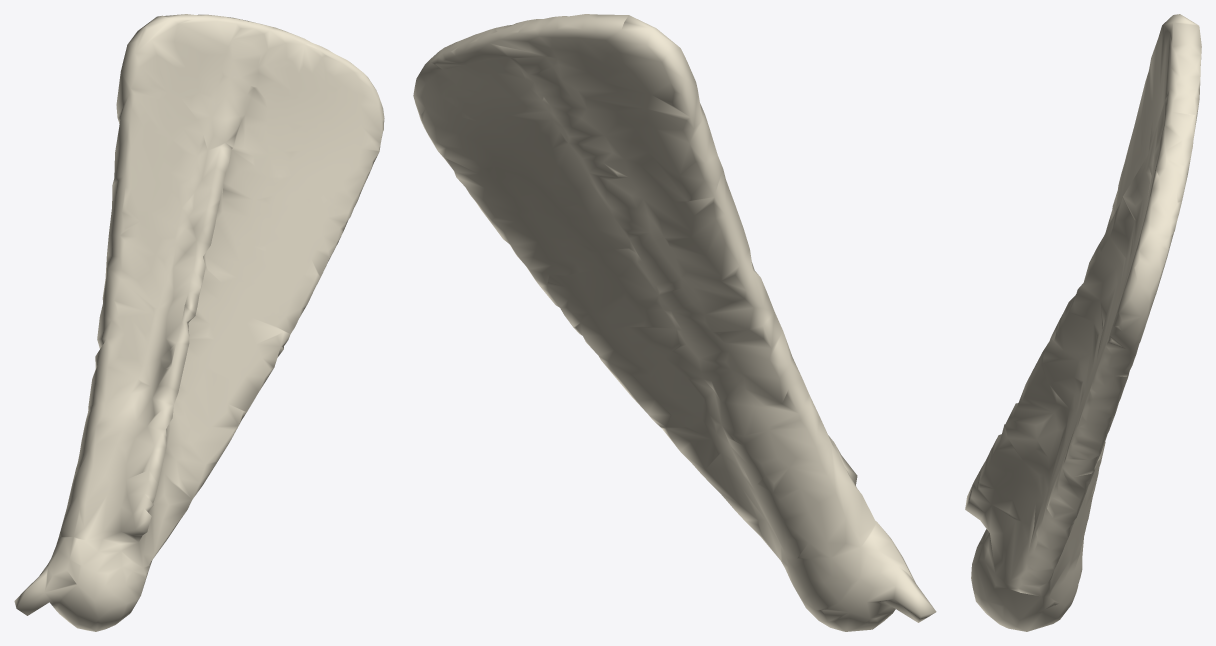
File: scapula_l.glb
The picture shows the model from 3 angles, left to right: view 1: azimuth 30°, elevation 25°; view 2: azimuth 150°, elevation 25°; view 3: azimuth 270°, elevation 25°; orthographic projection. The views are drawn at different scales.
Parts seen in each view (by area): view 1: geometry_0; view 2: geometry_0; view 3: geometry_0.
Part boxes in pixels (x1,y1,x2,y2): geometry_0: (14,14,384,631); geometry_0: (413,14,936,631); geometry_0: (965,14,1201,631).
Size of the model in its own units: 0.6163 by 0.7811 by 0.2433.
